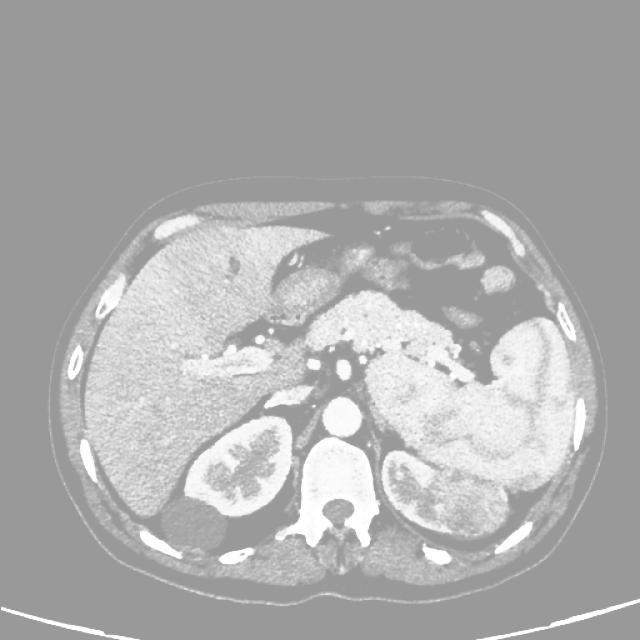TUMOR: (116, 311, 640, 566)
